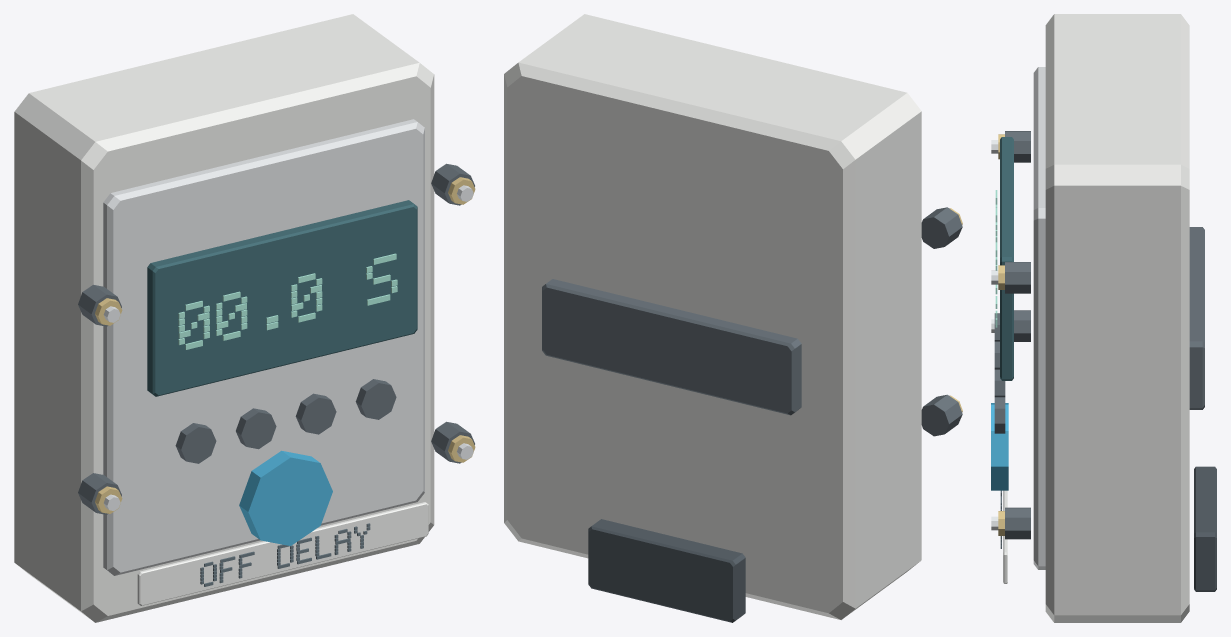
File: timerOffDelay.glb
3 renders of one model, left to right at view 1: azimuth 30°, elevation 25°; view 2: azimuth 150°, elevation 25°; view 3: azimuth 270°, elevation 25°, orthographic. The views are drawn at different scales.
Visible parts, largest first — view 1: timerOffDelay-board; view 2: timerOffDelay-board; view 3: timerOffDelay-board.
Boxes of the visible parts, left/top/right/bottom form: timerOffDelay-board: left=14, top=14, right=475, bottom=622; timerOffDelay-board: left=504, top=14, right=962, bottom=622; timerOffDelay-board: left=991, top=14, right=1216, bottom=622.
Bounding box in the file's own units: 2.4 × 2.95 × 1.28.
